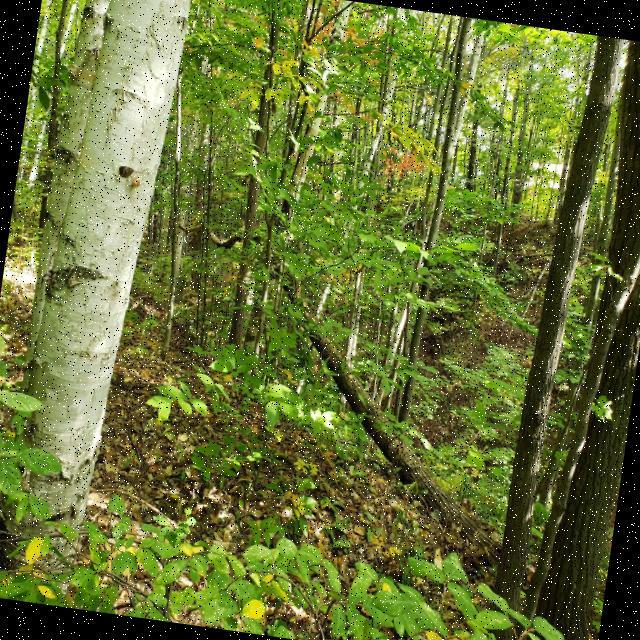fallen_object: (130, 201, 592, 610)
